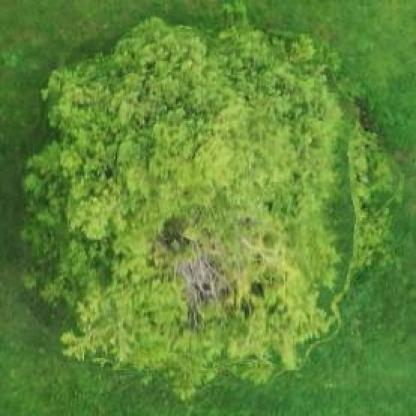Deciduous Tree: (15, 14, 401, 388)
